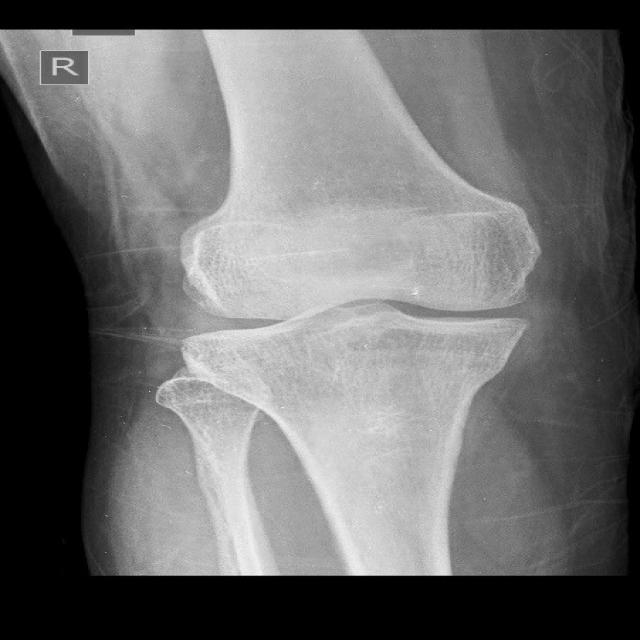normal: (180, 207, 536, 379)
